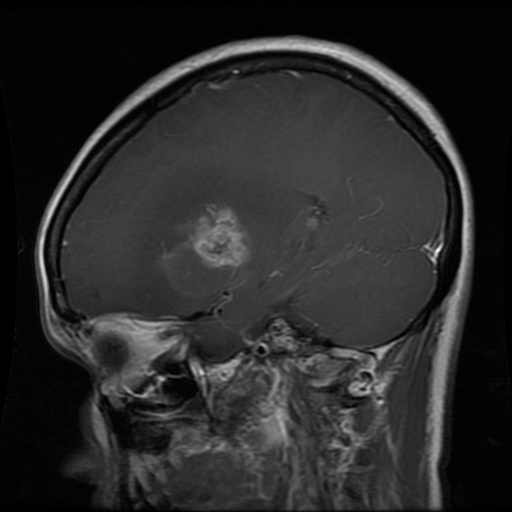glioma: (162, 202, 255, 267)
